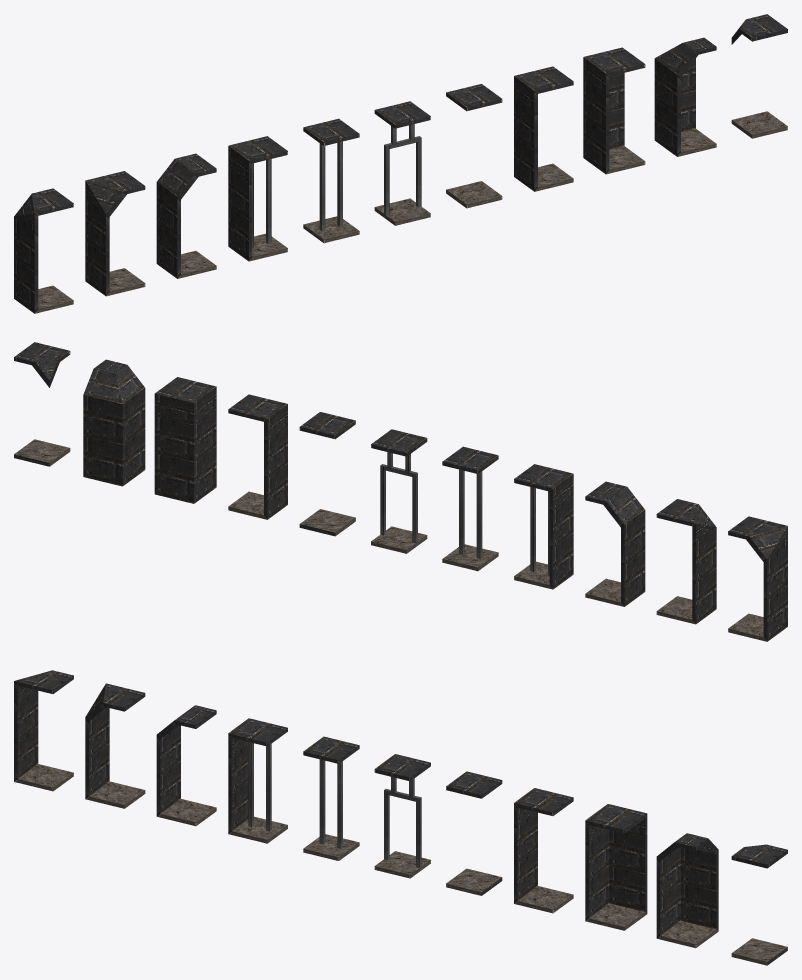
Rendered from prison_tileset.glb.
3 renders of one model, top to bottom at view 1: azimuth 30°, elevation 25°; view 2: azimuth 150°, elevation 25°; view 3: azimuth 330°, elevation 25°, orthographic.
Parts seen in each view (by area): view 1: corner-col, tunnel_corner-col, gate_wall-col, transition_r-col, tunnel-col, wall-col, transition_l-col, door-col, gate-col, floor-col, corner_out-col; view 2: corner-col, tunnel_corner-col, gate_wall-col, transition_l-col, tunnel-col, wall-col, transition_r-col, door-col, gate-col, corner_out-col, floor-col; view 3: corner-col, tunnel_corner-col, gate_wall-col, wall-col, transition_r-col, transition_l-col, tunnel-col, door-col, gate-col, floor-col, corner_out-col.
Boxes of the visible parts, <box> form: corner-col: <box>583,47,645,174</box>; tunnel_corner-col: <box>654,37,716,156</box>; gate_wall-col: <box>228,136,287,261</box>; transition_r-col: <box>85,171,145,296</box>; tunnel-col: <box>156,153,216,278</box>; wall-col: <box>514,66,573,191</box>; transition_l-col: <box>14,188,73,313</box>; door-col: <box>374,101,430,225</box>; gate-col: <box>303,118,359,243</box>; floor-col: <box>446,84,502,208</box>; corner_out-col: <box>731,14,787,138</box>; corner-col: <box>154,377,216,503</box>; tunnel_corner-col: <box>83,359,145,486</box>; gate_wall-col: <box>514,464,573,589</box>; transition_l-col: <box>728,516,787,641</box>; tunnel-col: <box>585,481,645,606</box>; wall-col: <box>228,394,287,519</box>; transition_r-col: <box>656,499,716,624</box>; door-col: <box>371,429,427,553</box>; gate-col: <box>442,446,498,571</box>; corner_out-col: <box>14,342,70,466</box>; floor-col: <box>299,412,355,536</box>; corner-col: <box>585,804,647,930</box>; tunnel_corner-col: <box>656,833,718,948</box>; gate_wall-col: <box>228,718,287,843</box>; wall-col: <box>514,788,573,913</box>; transition_r-col: <box>85,683,145,808</box>; transition_l-col: <box>14,670,73,791</box>; tunnel-col: <box>156,705,216,826</box>; door-col: <box>374,754,430,878</box>; gate-col: <box>303,736,359,860</box>; floor-col: <box>446,771,502,895</box>; corner_out-col: <box>731,844,787,965</box>.
Bounding box in the file's own units: 21.1 × 2.7 × 1.1.
Materials: 1 (1 with a texture image).
